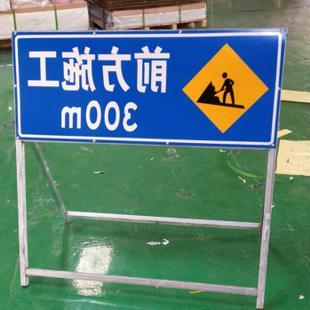sign: (11, 27, 285, 149)
